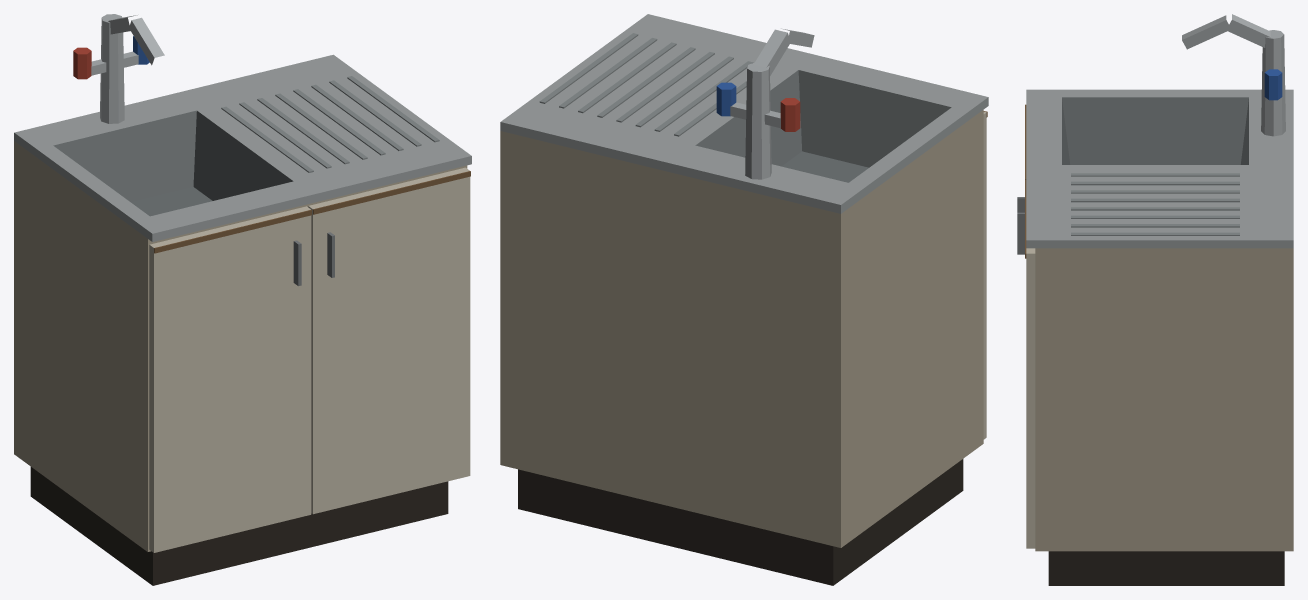
File: kitchen-sink.glb
3 views of the same model, side by side, from view 1: azimuth 30°, elevation 25°; view 2: azimuth 150°, elevation 25°; view 3: azimuth 270°, elevation 25° (orthographic). The views are drawn at different scales.
Parts seen in each view (by area): view 1: kitchen-sink; view 2: kitchen-sink; view 3: kitchen-sink.
Boxes of the visible parts, bbox=[...] form: kitchen-sink: bbox=[14, 14, 471, 585]; kitchen-sink: bbox=[500, 14, 988, 585]; kitchen-sink: bbox=[1017, 14, 1293, 585].
Bounding box in the file's own units: 0.8 × 1.15 × 0.62.
